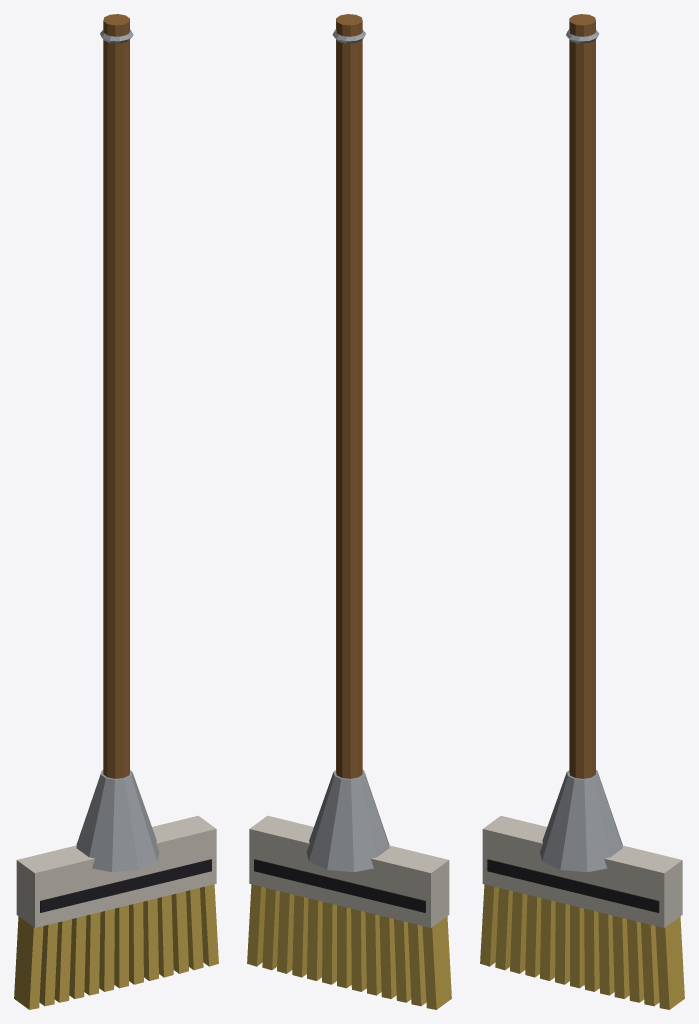
The model's file is broom.glb.
3 renders of one model, left to right at view 1: azimuth 30°, elevation 25°; view 2: azimuth 150°, elevation 25°; view 3: azimuth 330°, elevation 25°, orthographic.
Parts seen in each view (by area): view 1: broom; view 2: broom; view 3: broom.
Part boxes in pixels (<box>): broom: <box>14,14,218,1009</box>; broom: <box>247,14,451,1009</box>; broom: <box>480,14,684,1009</box>.
Bounding box in the file's own units: 0.2712 × 1.32 × 0.11.
